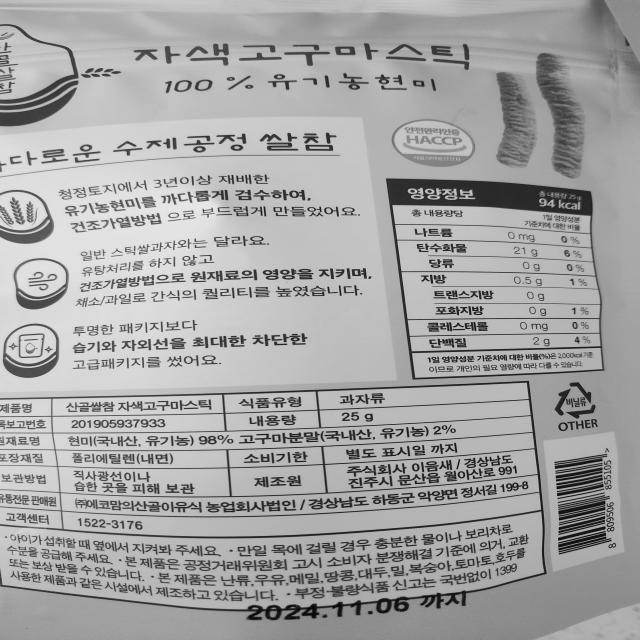Nutrition Label: (378, 170, 624, 381)
